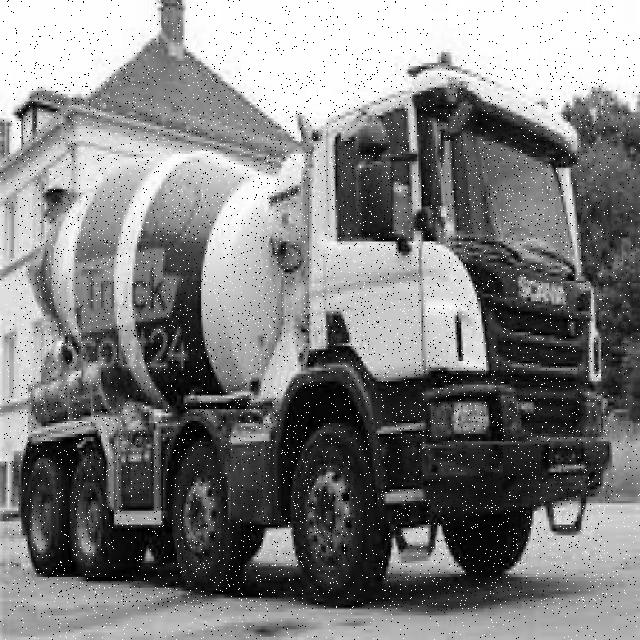Concrete Mixer: (18, 65, 609, 609)
